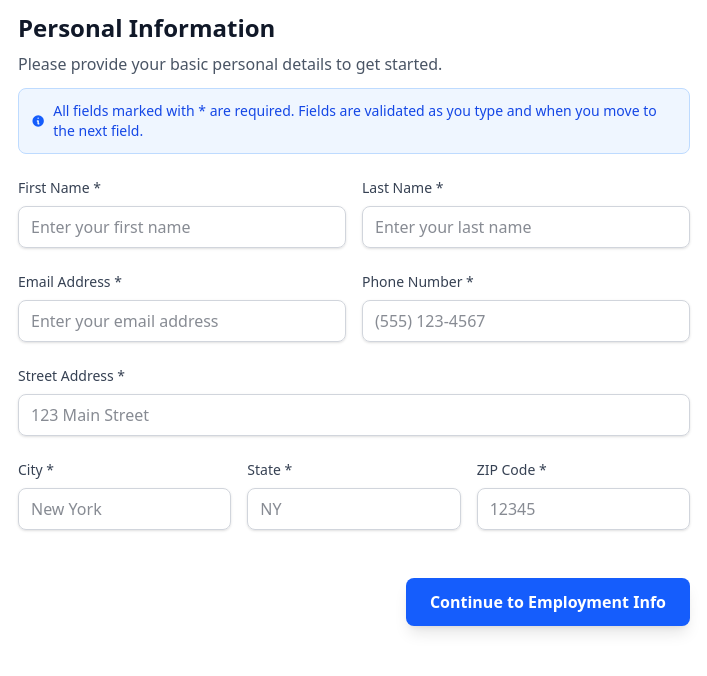
Test: PersonalInfoForm Email Validation › shows validation error on form submission with invalid email
# Enter invalid email
Type "invalid-email" into the field labelled "Email Address *" at [182, 321], box top-left (18, 300), bottom-right (346, 342)
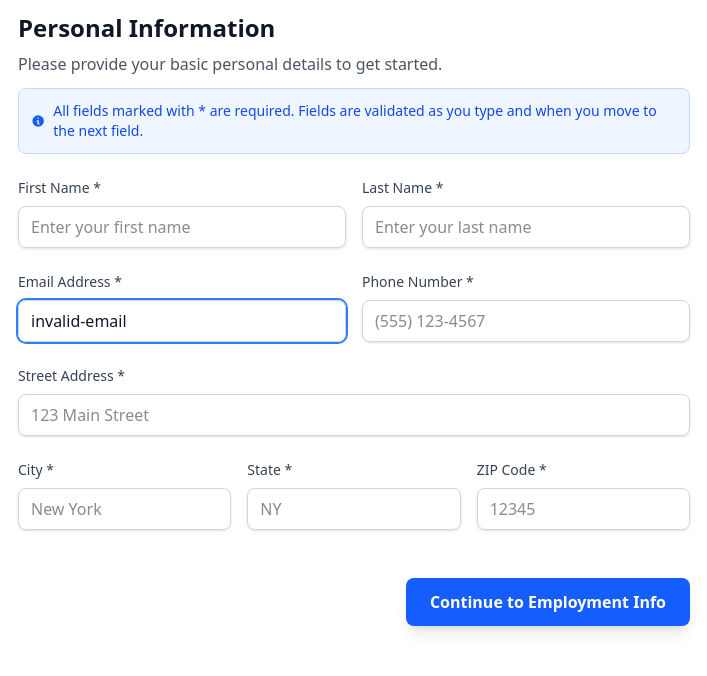
# Try to submit the form
Click the button "Continue to Employment Info" at [548, 602], box top-left (406, 578), bottom-right (690, 626)
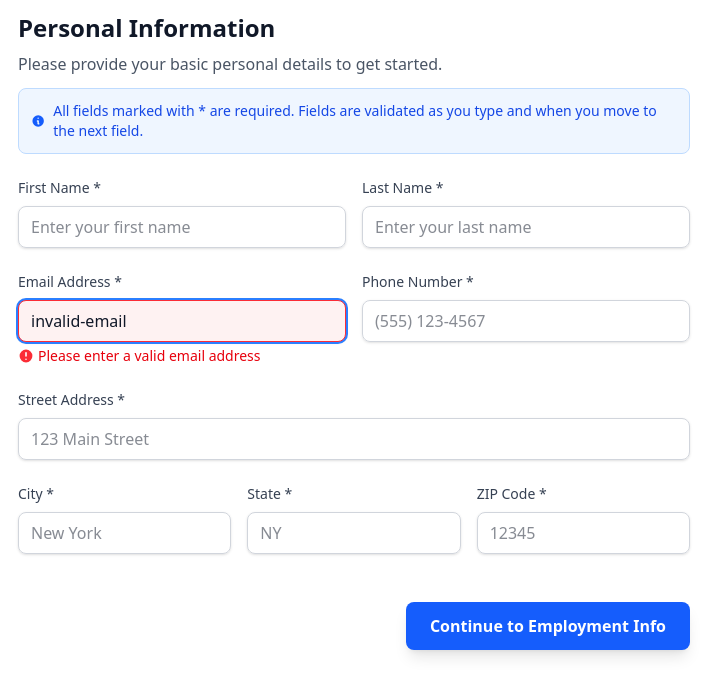
Now the text "Please enter a valid email address" is shown, box top-left (38, 346), bottom-right (260, 366)
